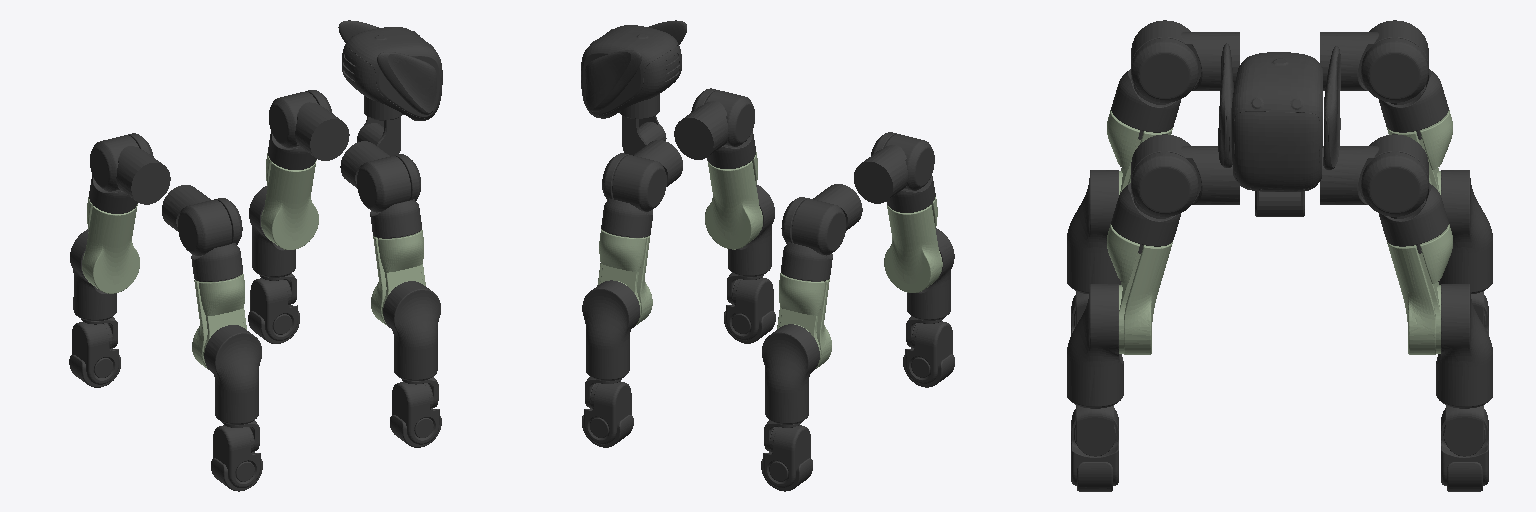
URDF robot description (E1_2_DOG):
<robot name="E1_2_DOG">
  <mujoco>
    <compiler meshdir="./" discardvisual="false" />
  </mujoco>

  <!-- <link name="world"></link>
  <joint name="floating_base_joint" type="floating">
    <parent link="world"/>
    <child link="base_link"/>
  </joint> -->

  <link name="base_link">
    <inertial>
      <origin xyz="0.013977 2.6733E-07 -0.004053" rpy="0 0 0" />
      <mass value="6" />
      <inertia ixx="0.058314" ixy="-4.2259E-06" ixz="2.3373E-07" iyy="0.056608" iyz="-6.4635E-07" izz="0.068338" />
    </inertial>
    <visual>
      <origin xyz="0 0 0" rpy="0 0 0" />
      <geometry>
        <mesh filename="meshes/base_link.STL" />
      </geometry>
      <material name="">
        <color rgba="0.29412 0.29412 0.29412 1" />
      </material>
    </visual>
    <collision>
      <origin xyz="0 0 0" rpy="0 0 0" />
      <geometry>
        <mesh filename="meshes/base_link.STL" />
      </geometry>
    </collision>
  </link>
  <link name="FL_thigh_link">
    <inertial>
      <origin xyz="-0.0072238 0.0070718 1.4326E-07" rpy="0 0 0" />
      <mass value="0.785" />
      <inertia ixx="0.0010753" ixy="0.0001168" ixz="-4.0136E-11" iyy="0.00043161" iyz="-2.0555E-09" izz="0.0010285" />
    </inertial>
    <visual>
      <origin xyz="0 0 0" rpy="0 0 0" />
      <geometry>
        <mesh filename="meshes/FL_thigh_link.STL" />
      </geometry>
      <material name="">
        <color rgba="0.29412 0.29412 0.29412 1" />
      </material>
    </visual>
    <collision>
      <origin xyz="0 0 0" rpy="0 0 0" />
      <geometry>
        <mesh filename="meshes/FL_thigh_link.STL" />
      </geometry>
    </collision>
  </link>
  <joint name="FL_thigh_joint" type="revolute">
    <origin xyz="0.17 0.109 0" rpy="0 0 0" />
    <parent link="base_link" />
    <child link="FL_thigh_link" />
    <axis xyz="0 1 0" />
    <limit lower="-3.1416" upper="3.1416" effort="60" velocity="13.09" />
  </joint>
  <link name="FL_hip_roll_link">
    <inertial>
      <origin xyz="0.0072821 0.018935 -0.046755" rpy="0 0 0" />
      <mass value="0.645" />
      <inertia ixx="0.00077804" ixy="6.1014E-05" ixz="-0.00016056" iyy="0.00074389" iyz="0.00011541" izz="0.00049477" />
    </inertial>
    <visual>
      <origin xyz="0 0 0" rpy="0 0 0" />
      <geometry>
        <mesh filename="meshes/FL_hip_roll_link.STL" />
      </geometry>
      <material name="">
        <color rgba="0.29412 0.29412 0.29412 1" />
      </material>
    </visual>
  </link>
  <joint name="FL_hip_roll_joint" type="revolute">
    <origin xyz="0 0.036 0" rpy="0 0 0" />
    <parent link="FL_thigh_link" />
    <child link="FL_hip_roll_link" />
    <axis xyz="1 0 0" />
    <limit lower="-0.4363" upper="3.1416" effort="36" velocity="13.61" />
  </joint>
  <link name="FL_hip_yaw_link">
    <inertial>
      <origin xyz="-6.2336E-08 -0.012168 -0.070391" rpy="0 0 0" />
      <mass value="0.909" />
      <inertia ixx="0.0017323" ixy="6.2429E-10" ixz="2.1785E-09" iyy="0.0020031" iyz="-0.00012721" izz="0.00056898" />
    </inertial>
    <visual>
      <origin xyz="0 0 0" rpy="0 0 0" />
      <geometry>
        <mesh filename="meshes/FL_hip_yaw_link.STL" />
      </geometry>
      <material name="">
        <color rgba="0.62745 0.68627 0.58824 1" />
      </material>
    </visual>
    <collision>
      <origin xyz="0 0 0" rpy="0 0 0" />
      <geometry>
        <mesh filename="meshes/FL_hip_yaw_link.STL" />
      </geometry>
    </collision>
  </link>
  <joint name="FL_hip_yaw_joint" type="revolute">
    <origin xyz="0 0.03235 -0.091754" rpy="0.2618 0 0" />
    <parent link="FL_hip_roll_link" />
    <child link="FL_hip_yaw_link" />
    <axis xyz="0 0 1" />
    <limit lower="-1.4835" upper="0.7854" effort="15" velocity="15.71" />
  </joint>
  <link name="FL_calf_link">
    <inertial>
      <origin xyz="-7.2919E-05 0.029918 -0.090431" rpy="0 0 0" />
      <mass value="1.165" />
      <inertia ixx="0.0011359" ixy="-5.5412E-10" ixz="3.5592E-05" iyy="0.0012136" iyz="2.3587E-05" izz="0.00045557" />
    </inertial>
    <visual>
      <origin xyz="0 0 0" rpy="0 0 0" />
      <geometry>
        <mesh filename="meshes/FL_calf_link.STL" />
      </geometry>
      <material name="">
        <color rgba="0.29412 0.29412 0.29412 1" />
      </material>
    </visual>
    <collision>
      <origin xyz="0 0 0" rpy="0 0 0" />
      <geometry>
        <mesh filename="meshes/FL_calf_link.STL" />
      </geometry>
    </collision>
  </link>
  <joint name="FL_calf_joint" type="revolute">
    <origin xyz="0 -0.0032401 -0.1112" rpy="-0.2618 0 0" />
    <parent link="FL_hip_yaw_link" />
    <child link="FL_calf_link" />
    <axis xyz="0 1 0" />
    <limit lower="-2.618" upper="1.309" effort="60" velocity="13.09" />
  </joint>
  <link name="FR_thigh_link">
    <inertial>
      <origin xyz="-0.0072245 -0.0070718 -7.5526E-07" rpy="0 0 0" />
      <mass value="0.785" />
      <inertia ixx="0.0010753" ixy="-0.0001168" ixz="4.202E-09" iyy="0.00043161" iyz="-2.7412E-10" izz="0.0010285" />
    </inertial>
    <visual>
      <origin xyz="0 0 0" rpy="0 0 0" />
      <geometry>
        <mesh filename="meshes/FR_thigh_link.STL" />
      </geometry>
      <material name="">
        <color rgba="0.29412 0.29412 0.29412 1" />
      </material>
    </visual>
    <collision>
      <origin xyz="0 0 0" rpy="0 0 0" />
      <geometry>
        <mesh filename="meshes/FR_thigh_link.STL" />
      </geometry>
    </collision>
  </link>
  <joint name="FR_thigh_joint" type="revolute">
    <origin xyz="0.17 -0.109 0" rpy="0 0 0" />
    <parent link="base_link" />
    <child link="FR_thigh_link" />
    <axis xyz="0 1 0" />
    <limit lower="-3.1416" upper="3.1416" effort="60" velocity="13.09" />
  </joint>
  <link name="FR_hip_roll_link">
    <inertial>
      <origin xyz="0.007282 -0.018936 -0.046755" rpy="0 0 0" />
      <mass value="0.645" />
      <inertia ixx="0.00077803" ixy="-6.1015E-05" ixz="-0.00016056" iyy="0.00074389" iyz="-0.0001154" izz="0.00049477" />
    </inertial>
    <visual>
      <origin xyz="0 0 0" rpy="0 0 0" />
      <geometry>
        <mesh filename="meshes/FR_hip_roll_link.STL" />
      </geometry>
      <material name="">
        <color rgba="0.29412 0.29412 0.29412 1" />
      </material>
    </visual>
  </link>
  <joint name="FR_hip_roll_joint" type="revolute">
    <origin xyz="0 -0.036 0" rpy="0 0 0" />
    <parent link="FR_thigh_link" />
    <child link="FR_hip_roll_link" />
    <axis xyz="1 0 0" />
    <limit lower="-3.1416" upper="0.4363" effort="36" velocity="13.61" />
  </joint>
  <link name="FR_hip_yaw_link">
    <inertial>
      <origin xyz="9.0038E-08 0.012168 -0.070391" rpy="0 0 0" />
      <mass value="0.909" />
      <inertia ixx="0.0017323" ixy="8.1888E-10" ixz="4.8349E-09" iyy="0.0020031" iyz="0.00012721" izz="0.00056898" />
    </inertial>
    <visual>
      <origin xyz="0 0 0" rpy="0 0 0" />
      <geometry>
        <mesh filename="meshes/FR_hip_yaw_link.STL" />
      </geometry>
      <material name="">
        <color rgba="0.62745 0.68627 0.58824 1" />
      </material>
    </visual>
    <collision>
      <origin xyz="0 0 0" rpy="0 0 0" />
      <geometry>
        <mesh filename="meshes/FR_hip_yaw_link.STL" />
      </geometry>
    </collision>
  </link>
  <joint name="FR_hip_yaw_joint" type="revolute">
    <origin xyz="0 -0.03235 -0.091754" rpy="-0.2618 0 0" />
    <parent link="FR_hip_roll_link" />
    <child link="FR_hip_yaw_link" />
    <axis xyz="0 0 1" />
    <limit lower="-0.7854" upper="1.4835" effort="15" velocity="15.71" />
  </joint>
  <link name="FR_calf_link">
    <inertial>
      <origin xyz="-7.2805E-05 -0.029918 -0.090432" rpy="0 0 0" />
      <mass value="1.165" />
      <inertia ixx="0.0011359" ixy="2.9301E-10" ixz="3.5595E-05" iyy="0.0012136" iyz="-2.3589E-05" izz="0.00045557" />
    </inertial>
    <visual>
      <origin xyz="0 0 0" rpy="0 0 0" />
      <geometry>
        <mesh filename="meshes/FR_calf_link.STL" />
      </geometry>
      <material name="">
        <color rgba="0.29412 0.29412 0.29412 1" />
      </material>
    </visual>
    <collision>
      <origin xyz="0 0 0" rpy="0 0 0" />
      <geometry>
        <mesh filename="meshes/FR_calf_link.STL" />
      </geometry>
    </collision>
  </link>
  <joint name="FR_calf_joint" type="revolute">
    <origin xyz="0 0.0032401 -0.1112" rpy="0.2618 0 0" />
    <parent link="FR_hip_yaw_link" />
    <child link="FR_calf_link" />
    <axis xyz="0 1 0" />
    <limit lower="-2.618" upper="1.309" effort="60" velocity="13.09" />
  </joint>
  <link name="RL_thigh_link">
    <inertial>
      <origin xyz="-0.0072238 0.0070718 1.4327E-07" rpy="0 0 0" />
      <mass value="0.785" />
      <inertia ixx="0.0010753" ixy="0.0001168" ixz="-3.9949E-11" iyy="0.00043161" iyz="-2.0557E-09" izz="0.0010285" />
    </inertial>
    <visual>
      <origin xyz="0 0 0" rpy="0 0 0" />
      <geometry>
        <mesh filename="meshes/RL_thigh_link.STL" />
      </geometry>
      <material name="">
        <color rgba="0.29412 0.29412 0.29412 1" />
      </material>
    </visual>
    <collision>
      <origin xyz="0 0 0" rpy="0 0 0" />
      <geometry>
        <mesh filename="meshes/RL_thigh_link.STL" />
      </geometry>
    </collision>
  </link>
  <joint name="RL_thigh_joint" type="revolute">
    <origin xyz="-0.17 0.109 0" rpy="0 0 0" />
    <parent link="base_link" />
    <child link="RL_thigh_link" />
    <axis xyz="0 1 0" />
    <limit lower="-3.1416" upper="3.1416" effort="60" velocity="13.09" />
  </joint>
  <link name="RL_hip_roll_link">
    <inertial>
      <origin xyz="0.0072821 0.018935 -0.046755" rpy="0 0 0" />
      <mass value="0.645" />
      <inertia ixx="0.00077804" ixy="6.1014E-05" ixz="-0.00016056" iyy="0.00074389" iyz="0.00011541" izz="0.00049477" />
    </inertial>
    <visual>
      <origin xyz="0 0 0" rpy="0 0 0" />
      <geometry>
        <mesh filename="meshes/RL_hip_roll_link.STL" />
      </geometry>
      <material name="">
        <color rgba="0.29412 0.29412 0.29412 1" />
      </material>
    </visual>
  </link>
  <joint name="RL_hip_roll_joint" type="revolute">
    <origin xyz="0 0.036 0" rpy="0 0 0" />
    <parent link="RL_thigh_link" />
    <child link="RL_hip_roll_link" />
    <axis xyz="1 0 0" />
    <limit lower="-0.4363" upper="3.1416" effort="36" velocity="13.61" />
  </joint>
  <link name="RL_hip_yaw_link">
    <inertial>
      <origin xyz="-6.2336E-08 -0.012168 -0.070391" rpy="0 0 0" />
      <mass value="0.909" />
      <inertia ixx="0.0017323" ixy="6.2429E-10" ixz="2.1785E-09" iyy="0.0020031" iyz="-0.00012721" izz="0.00056898" />
    </inertial>
    <visual>
      <origin xyz="0 0 0" rpy="0 0 0" />
      <geometry>
        <mesh filename="meshes/RL_hip_yaw_link.STL" />
      </geometry>
      <material name="">
        <color rgba="0.62745 0.68627 0.58824 1" />
      </material>
    </visual>
    <collision>
      <origin xyz="0 0 0" rpy="0 0 0" />
      <geometry>
        <mesh filename="meshes/RL_hip_yaw_link.STL" />
      </geometry>
    </collision>
  </link>
  <joint name="RL_hip_yaw_joint" type="revolute">
    <origin xyz="0 0.03235 -0.091754" rpy="0.2618 0 0" />
    <parent link="RL_hip_roll_link" />
    <child link="RL_hip_yaw_link" />
    <axis xyz="0 0 1" />
    <limit lower="-1.4835" upper="0.7854" effort="15" velocity="15.71" />
  </joint>
  <link name="RL_calf_link">
    <inertial>
      <origin xyz="-7.2919E-05 0.029918 -0.090431" rpy="0 0 0" />
      <mass value="1.165" />
      <inertia ixx="0.0011359" ixy="-5.5412E-10" ixz="3.5592E-05" iyy="0.0012136" iyz="2.3587E-05" izz="0.00045557" />
    </inertial>
    <visual>
      <origin xyz="0 0 0" rpy="0 0 0" />
      <geometry>
        <mesh filename="meshes/RL_calf_link.STL" />
      </geometry>
      <material name="">
        <color rgba="0.29412 0.29412 0.29412 1" />
      </material>
    </visual>
    <collision>
      <origin xyz="0 0 0" rpy="0 0 0" />
      <geometry>
        <mesh filename="meshes/RL_calf_link.STL" />
      </geometry>
    </collision>
  </link>
  <joint name="RL_calf_joint" type="revolute">
    <origin xyz="0 -0.0032401 -0.1112" rpy="-0.2618 0 0" />
    <parent link="RL_hip_yaw_link" />
    <child link="RL_calf_link" />
    <axis xyz="0 1 0" />
    <limit lower="-2.618" upper="1.309" effort="60" velocity="13.09" />
  </joint>
  <link name="RR_thigh_link">
    <inertial>
      <origin xyz="-0.0072245 -0.0070718 -7.5526E-07" rpy="0 0 0" />
      <mass value="0.785" />
      <inertia ixx="0.0010753" ixy="-0.0001168" ixz="4.202E-09" iyy="0.00043161" iyz="-2.7412E-10" izz="0.0010285" />
    </inertial>
    <visual>
      <origin xyz="0 0 0" rpy="0 0 0" />
      <geometry>
        <mesh filename="meshes/RR_thigh_link.STL" />
      </geometry>
      <material name="">
        <color rgba="0.29412 0.29412 0.29412 1" />
      </material>
    </visual>
    <collision>
      <origin xyz="0 0 0" rpy="0 0 0" />
      <geometry>
        <mesh filename="meshes/RR_thigh_link.STL" />
      </geometry>
    </collision>
  </link>
  <joint name="RR_thigh_joint" type="revolute">
    <origin xyz="-0.17 -0.109 0" rpy="0 0 0" />
    <parent link="base_link" />
    <child link="RR_thigh_link" />
    <axis xyz="0 1 0" />
    <limit lower="-3.1416" upper="3.1416" effort="60" velocity="13.09" />
  </joint>
  <link name="RR_hip_roll_link">
    <inertial>
      <origin xyz="0.007282 -0.018936 -0.046755" rpy="0 0 0" />
      <mass value="0.645" />
      <inertia ixx="0.00077803" ixy="-6.1015E-05" ixz="-0.00016056" iyy="0.00074389" iyz="-0.0001154" izz="0.00049477" />
    </inertial>
    <visual>
      <origin xyz="0 0 0" rpy="0 0 0" />
      <geometry>
        <mesh filename="meshes/RR_hip_roll_link.STL" />
      </geometry>
      <material name="">
        <color rgba="0.29412 0.29412 0.29412 1" />
      </material>
    </visual>
  </link>
  <joint name="RR_hip_roll_joint" type="revolute">
    <origin xyz="0 -0.036 0" rpy="0 0 0" />
    <parent link="RR_thigh_link" />
    <child link="RR_hip_roll_link" />
    <axis xyz="1 0 0" />
    <limit lower="-3.1416" upper="0.4363" effort="36" velocity="13.61" />
  </joint>
  <link name="RR_hip_yaw_link">
    <inertial>
      <origin xyz="8.9752E-08 0.012168 -0.070391" rpy="0 0 0" />
      <mass value="0.909" />
      <inertia ixx="0.0017323" ixy="8.5349E-10" ixz="4.8286E-09" iyy="0.0020031" iyz="0.00012721" izz="0.00056898" />
    </inertial>
    <visual>
      <origin xyz="0 0 0" rpy="0 0 0" />
      <geometry>
        <mesh filename="meshes/RR_hip_yaw_link.STL" />
      </geometry>
      <material name="">
        <color rgba="0.62745 0.68627 0.58824 1" />
      </material>
    </visual>
    <collision>
      <origin xyz="0 0 0" rpy="0 0 0" />
      <geometry>
        <mesh filename="meshes/RR_hip_yaw_link.STL" />
      </geometry>
    </collision>
  </link>
  <joint name="RR_hip_yaw_joint" type="revolute">
    <origin xyz="0 -0.03235 -0.091754" rpy="-0.2618 0 0" />
    <parent link="RR_hip_roll_link" />
    <child link="RR_hip_yaw_link" />
    <axis xyz="0 0 1" />
    <limit lower="-0.7854" upper="1.4835" effort="15" velocity="15.71" />
  </joint>
  <link name="RR_calf_link">
    <inertial>
      <origin xyz="-7.2805E-05 -0.029918 -0.090432" rpy="0 0 0" />
      <mass value="1.165" />
      <inertia ixx="0.0011359" ixy="2.9301E-10" ixz="3.5595E-05" iyy="0.0012136" iyz="-2.3589E-05" izz="0.00045557" />
    </inertial>
    <visual>
      <origin xyz="0 0 0" rpy="0 0 0" />
      <geometry>
        <mesh filename="meshes/RR_calf_link.STL" />
      </geometry>
      <material name="">
        <color rgba="0.29412 0.29412 0.29412 1" />
      </material>
    </visual>
    <collision>
      <origin xyz="0 0 0" rpy="0 0 0" />
      <geometry>
        <mesh filename="meshes/RR_calf_link.STL" />
      </geometry>
    </collision>
  </link>
  <joint name="RR_calf_joint" type="revolute">
    <origin xyz="0 0.0032401 -0.1112" rpy="0.2618 0 0" />
    <parent link="RR_hip_yaw_link" />
    <child link="RR_calf_link" />
    <axis xyz="0 1 0" />
    <limit lower="-2.618" upper="1.309" effort="60" velocity="13.09" />
  </joint>
  <link name="head_pitch_link">
    <inertial>
      <origin xyz="0.0065695 -2.3216E-09 0.052424" rpy="0 0 0" />
      <mass value="0.195" />
      <inertia ixx="0.00074042" ixy="3.1907E-12" ixz="-6.4242E-05" iyy="0.00071937" iyz="-1.0332E-11" izz="0.00020947" />
    </inertial>
    <visual>
      <origin xyz="0 0 0" rpy="0 0 0" />
      <geometry>
        <mesh filename="meshes/head_pitch_link.STL" />
      </geometry>
      <material name="">
        <color rgba="0.29412 0.29412 0.29412 1" />
      </material>
    </visual>
  </link>
  <joint name="head_pitch_joint" type="revolute">
    <origin xyz="0.235 0 0" rpy="0 0 0" />
    <parent link="base_link" />
    <child link="head_pitch_link" />
    <axis xyz="0 1 0" />
    <limit lower="-0.7854" upper="1.8326" effort="6" velocity="12.57" />
  </joint>
  <link name="head_yaw_link">
    <inertial>
      <origin xyz="0.033171 -0.001592 0.0094915" rpy="0 0 0" />
      <mass value="1" />
      <inertia ixx="0.0011943" ixy="-3.5966E-06" ixz="0.00026847" iyy="0.0011202" iyz="-1.2868E-05" izz="0.00095449" />
    </inertial>
    <visual>
      <origin xyz="0 0 0" rpy="0 0 0" />
      <geometry>
        <mesh filename="meshes/head_yaw_link.STL" />
      </geometry>
      <material name="">
        <color rgba="0.29412 0.29412 0.29412 1" />
      </material>
    </visual>
    <collision>
      <origin xyz="0 0 0" rpy="0 0 0" />
      <geometry>
        <mesh filename="meshes/head_yaw_link.STL" />
      </geometry>
    </collision>
  </link>
  <joint name="head_yaw_joint" type="revolute">
    <origin xyz="0.01 0 0.112" rpy="0 0 0" />
    <parent link="head_pitch_link" />
    <child link="head_yaw_link" />
    <axis xyz="0 0 1" />
    <limit lower="-1.2217" upper="1.2217" effort="6" velocity="12.57" />
  </joint>
  <link name="imu_in_pelvis"></link>
  <joint name="imu_in_pelvis_joint" type="fixed">
    <origin xyz="0.165 0 -0.061" rpy="0 0 0"/>
    <parent link="base_link"/>
    <child link="imu_in_pelvis"/>
  </joint>
</robot>

--- What the picture shows (computed from the rendered views, not written in the file) ---
The picture shows the robot from 3 angles, left to right: view 1: azimuth 30°, elevation 25°; view 2: azimuth 150°, elevation 25°; view 3: azimuth 270°, elevation 25°; orthographic projection.
Model E1_2_DOG with 20 links and 19 joints (18 revolute, 1 fixed), rooted at base_link, posed all joints at 0.
Visible links, largest first — view 1: head_yaw_link, FR_calf_link, RR_calf_link, FL_calf_link, RL_calf_link, RL_hip_yaw_link, FL_hip_yaw_link, RL_thigh_link, FL_thigh_link, FR_thigh_link, RR_thigh_link, RR_hip_yaw_link (+6 smaller); view 2: head_yaw_link, RL_calf_link, FL_calf_link, FR_calf_link, RR_calf_link, RR_hip_yaw_link, FR_hip_yaw_link, RR_thigh_link, FR_thigh_link, FL_thigh_link, RL_thigh_link, FL_hip_yaw_link (+6 smaller); view 3: head_yaw_link, FL_calf_link, FR_calf_link, RL_hip_roll_link, RR_hip_roll_link, FL_hip_roll_link, FR_hip_roll_link, RR_calf_link, RL_calf_link, FL_hip_yaw_link, FR_hip_yaw_link, FL_thigh_link (+6 smaller).
Link boxes in pixels (x1,y1,x2,y2): head_yaw_link: (338,20,442,120); FR_calf_link: (383,281,441,447); RR_calf_link: (204,325,262,491); FL_calf_link: (248,186,299,343); RL_calf_link: (69,229,120,387); RL_hip_yaw_link: (82,197,139,293); FL_hip_yaw_link: (261,153,318,249); RL_thigh_link: (90,135,170,204); FL_thigh_link: (269,91,349,160); FR_thigh_link: (340,141,410,212); RR_thigh_link: (162,185,231,255); RR_hip_yaw_link: (192,274,246,369); head_yaw_link: (581,20,686,118); RL_calf_link: (761,324,819,491); FL_calf_link: (582,280,639,447); FR_calf_link: (724,185,775,343); RR_calf_link: (903,228,954,387); RR_hip_yaw_link: (884,197,942,292); FR_hip_yaw_link: (705,152,762,249); RR_thigh_link: (854,134,934,203); FR_thigh_link: (674,90,754,159); FL_thigh_link: (612,140,682,211); RL_thigh_link: (792,184,862,255); FL_hip_yaw_link: (597,229,652,324); head_yaw_link: (1218,43,1340,191); FL_calf_link: (1436,284,1492,491); FR_calf_link: (1067,284,1123,491); RL_hip_roll_link: (1361,38,1448,139); RR_hip_roll_link: (1111,38,1198,139); FL_hip_roll_link: (1361,152,1448,253); FR_hip_roll_link: (1111,152,1198,253); RR_calf_link: (1067,170,1121,334); RL_calf_link: (1438,170,1492,334); FL_hip_yaw_link: (1387,224,1452,354); FR_hip_yaw_link: (1107,224,1172,354); FL_thigh_link: (1320,134,1428,204).
Bounding box of the posed robot: 0.5487 × 0.538 × 0.6337 m (x, y, z).
Meshes: 19 distinct files referenced, 18 mesh visuals loaded (18 binary STL); not drawn: 1 (reference not matched to a file when rendering).
